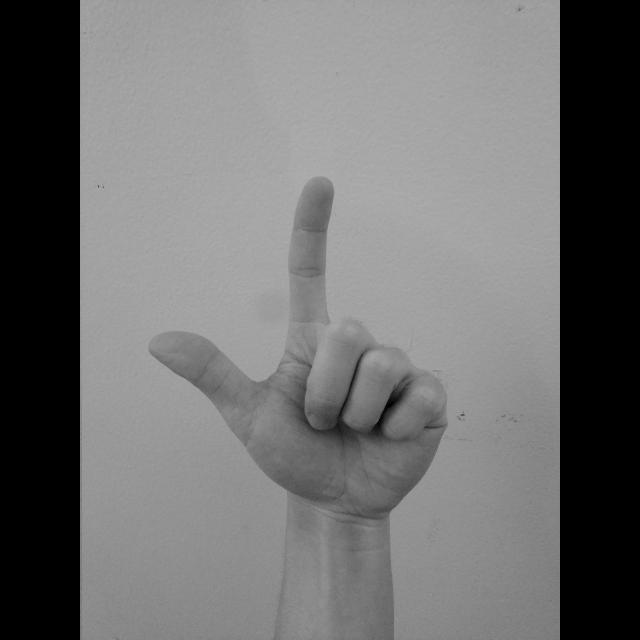L: (143, 172, 453, 520)
